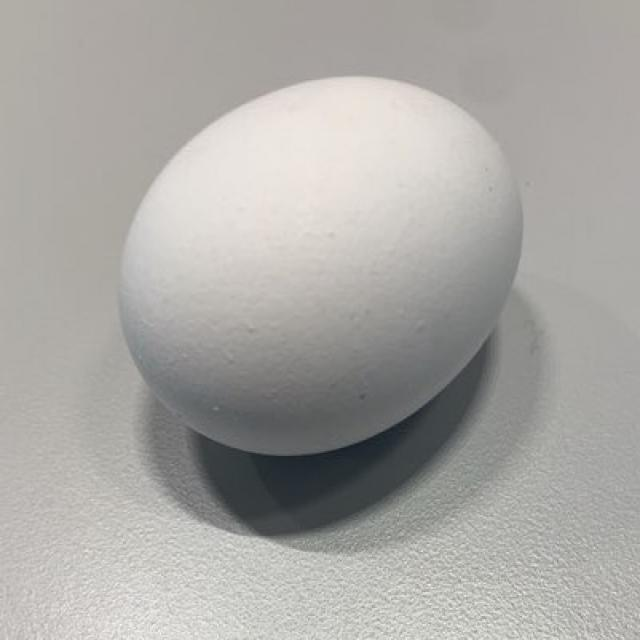egg: (119, 79, 516, 439)
